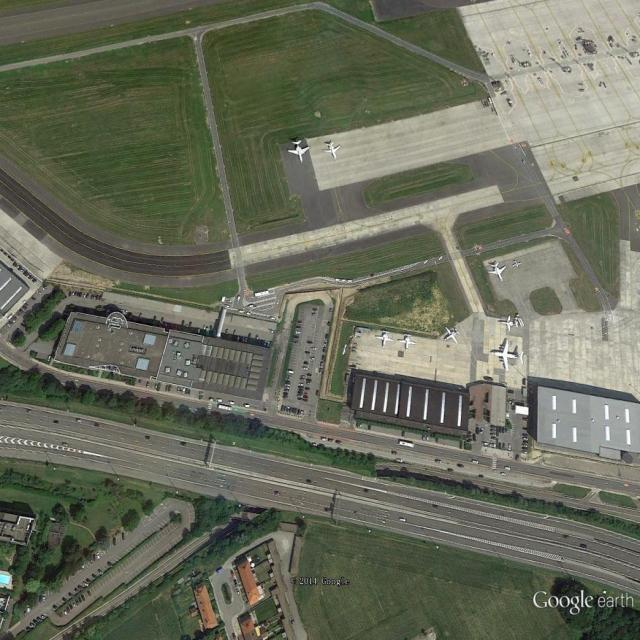aircraft: (491, 338, 526, 374), (287, 138, 312, 165), (497, 314, 521, 335), (321, 141, 343, 162), (487, 262, 508, 283), (397, 333, 418, 354), (375, 329, 396, 350), (444, 325, 461, 345), (514, 259, 522, 270)
